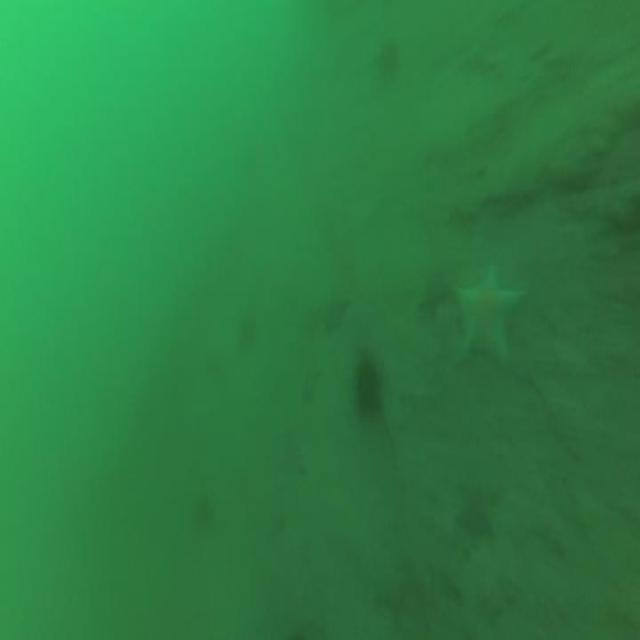echinus: (351, 343, 388, 425)
starfish: (455, 256, 528, 368), (453, 470, 503, 546)
